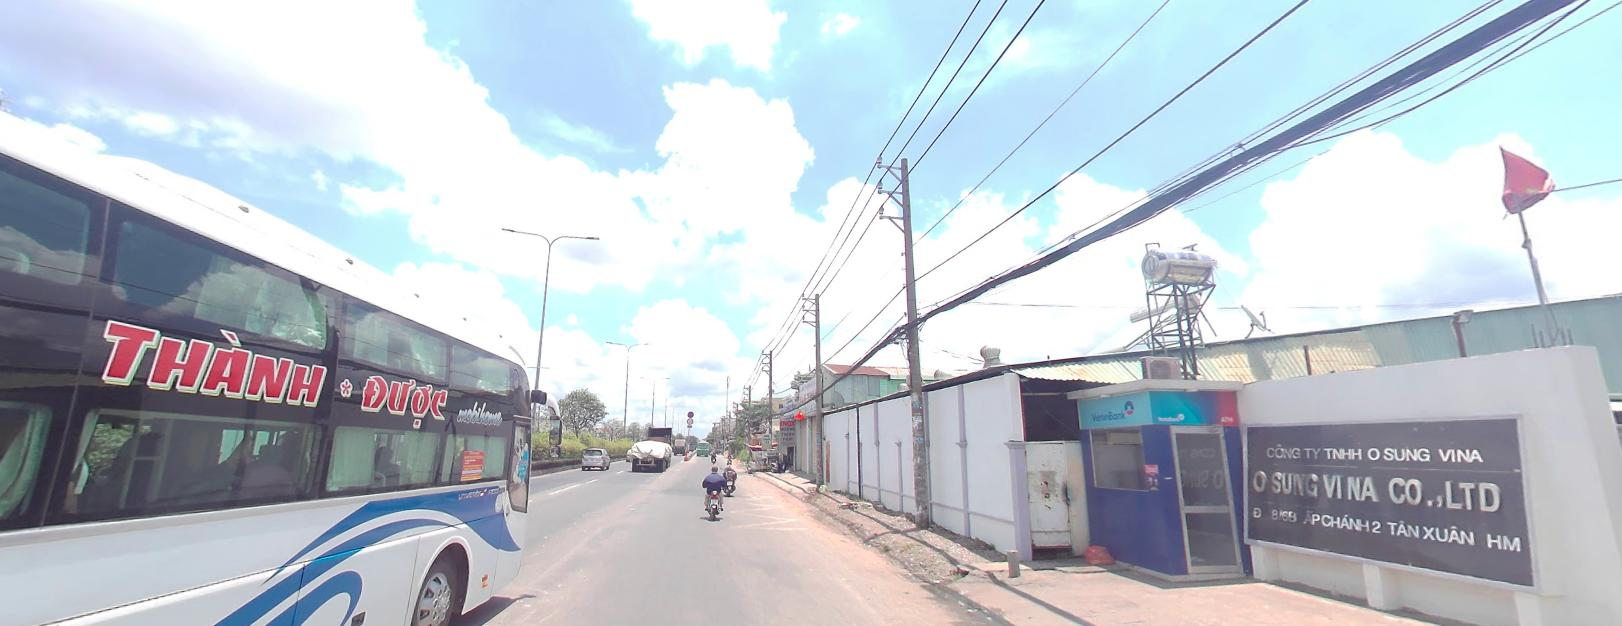Cam con lai: (686, 417, 692, 422)
Cam dung va do: (687, 409, 693, 415)
